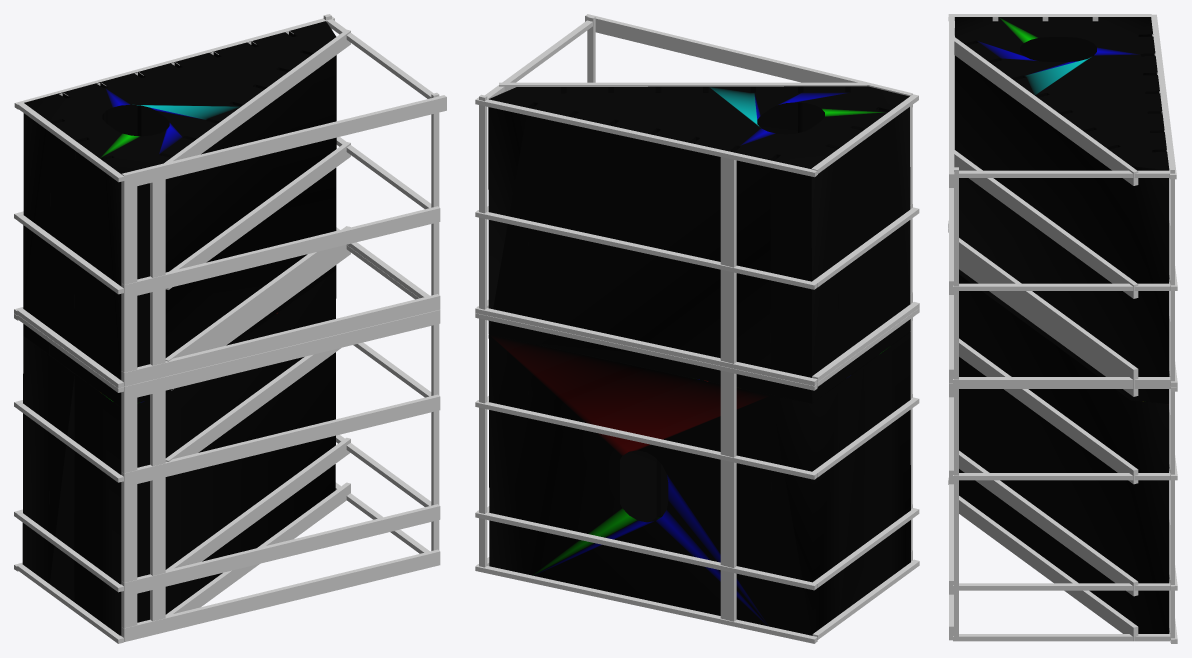
Rendered from col.dae.
3 renders of one model, left to right at view 1: azimuth 30°, elevation 25°; view 2: azimuth 150°, elevation 25°; view 3: azimuth 270°, elevation 25°, orthographic.
Parts seen in each view (by area): view 1: Line002, Box008, Box009, Box036, Box024, Box016, Box017, Box032, Box027, Box043, Box034, Box015 (+19 smaller); view 2: Line002, Box007, Box036, Box035, Box021, Box022, Box028, Box030, Box014, Box012, Box015, Box046 (+8 smaller); view 3: Line002, Box015, Box041, Box037, Box038, Box040, Box039, Box035, Box034, Box042, Box023, Box020 (+12 smaller).
Boxes of the visible parts, left/top/right/bottom form: Line002: left=22, top=21, right=336, bottom=635; Box008: left=121, top=182, right=137, bottom=635; Box009: left=150, top=179, right=165, bottom=621; Box036: left=121, top=95, right=446, bottom=189; Box024: left=121, top=549, right=440, bottom=641; Box016: left=121, top=206, right=440, bottom=298; Box017: left=121, top=294, right=440, bottom=386; Box032: left=121, top=504, right=440, bottom=596; Box027: left=121, top=394, right=440, bottom=486; Box043: left=121, top=310, right=440, bottom=400; Box034: left=431, top=92, right=439, bottom=550; Box015: left=164, top=29, right=350, bottom=163; Line002: left=488, top=86, right=910, bottom=635; Box007: left=720, top=157, right=736, bottom=621; Box036: left=585, top=14, right=912, bottom=108; Box035: left=479, top=94, right=487, bottom=567; Box021: left=475, top=306, right=817, bottom=385; Box022: left=475, top=564, right=817, bottom=643; Box028: left=475, top=400, right=817, bottom=479; Box030: left=475, top=510, right=817, bottom=590; Box014: left=475, top=210, right=817, bottom=289; Box012: left=475, top=97, right=817, bottom=177; Box015: left=499, top=82, right=867, bottom=93; Box046: left=475, top=313, right=817, bottom=390; Line002: left=955, top=17, right=1169, bottom=633; Box015: left=954, top=37, right=1138, bottom=185; Box041: left=959, top=496, right=1138, bottom=641; Box037: left=954, top=150, right=1138, bottom=298; Box038: left=959, top=238, right=1138, bottom=383; Box040: left=959, top=450, right=1138, bottom=596; Box039: left=959, top=338, right=1138, bottom=484; Box035: left=1170, top=167, right=1174, bottom=638; Box034: left=954, top=167, right=958, bottom=636; Box042: left=959, top=256, right=1138, bottom=396; Box023: left=953, top=634, right=1170, bottom=641; Box020: left=953, top=377, right=1170, bottom=384.
Size of the model in its own units: 154 by 211 by 92.73.
